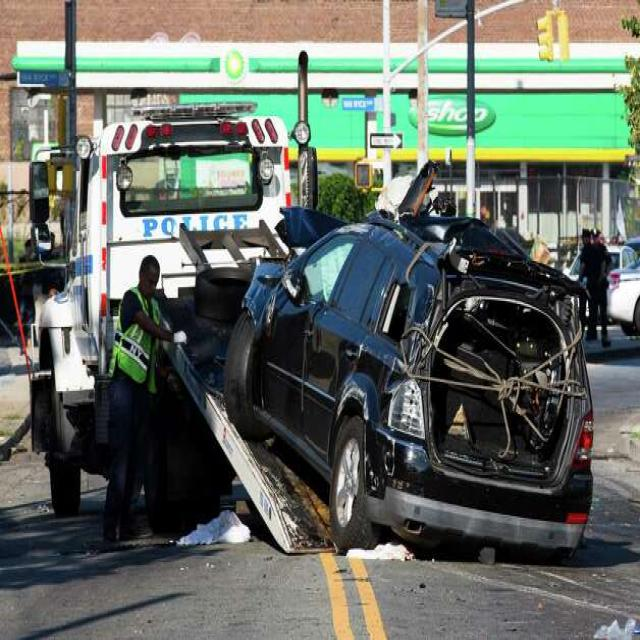crush: (244, 160, 594, 493)
